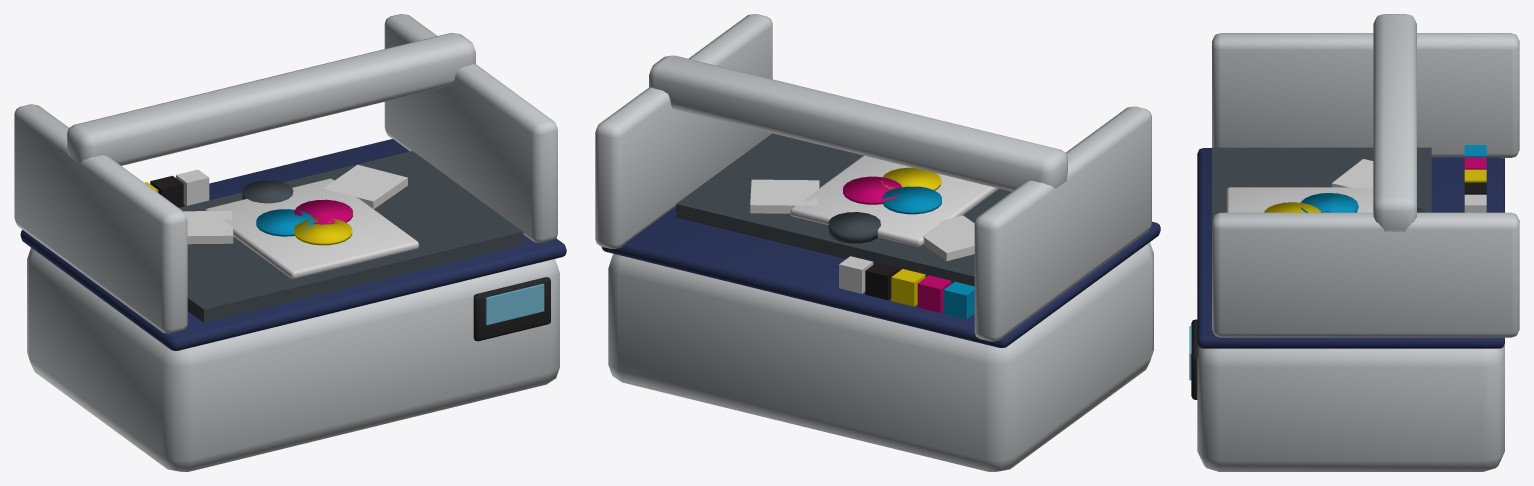
Rendered from m_dtg.glb.
3 renders of one model, left to right at view 1: azimuth 30°, elevation 25°; view 2: azimuth 150°, elevation 25°; view 3: azimuth 270°, elevation 25°, orthographic. The views are drawn at different scales.
Parts seen in each view (by area): view 1: m_dtg; view 2: m_dtg; view 3: m_dtg.
Boxes of the visible parts, box(x1,y1,x2,y2) form: m_dtg: box(14, 14, 566, 471); m_dtg: box(595, 14, 1160, 471); m_dtg: box(1189, 14, 1519, 471).
Bounding box in the file's own units: 0.62 × 0.42 × 0.451.
